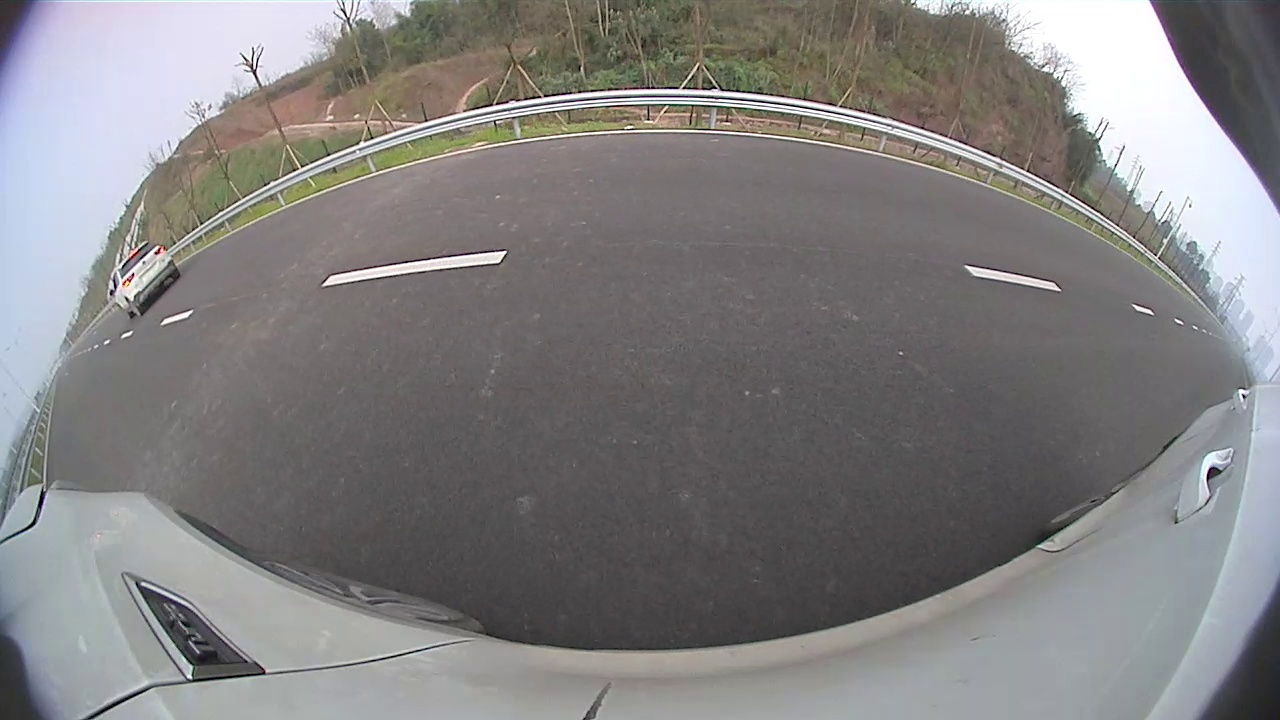car: (505, 153, 574, 201)
rear: (551, 176, 560, 196)
